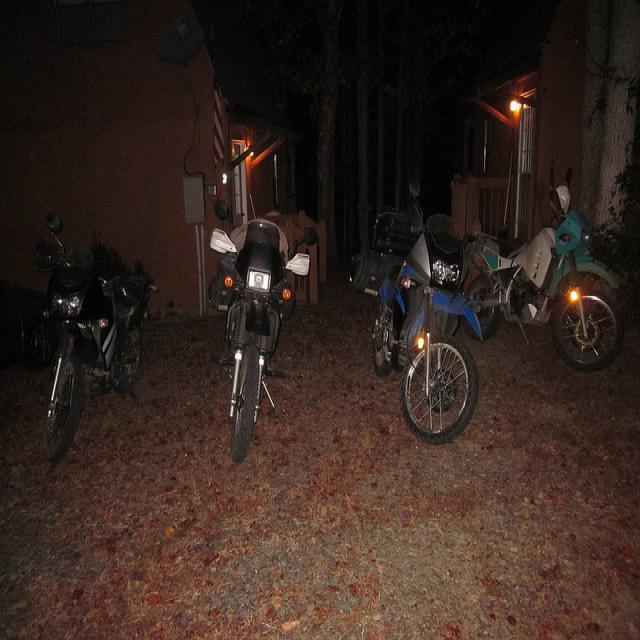Motorbike: (438, 162, 640, 363), (351, 226, 500, 429), (33, 210, 140, 454), (198, 205, 310, 433)
